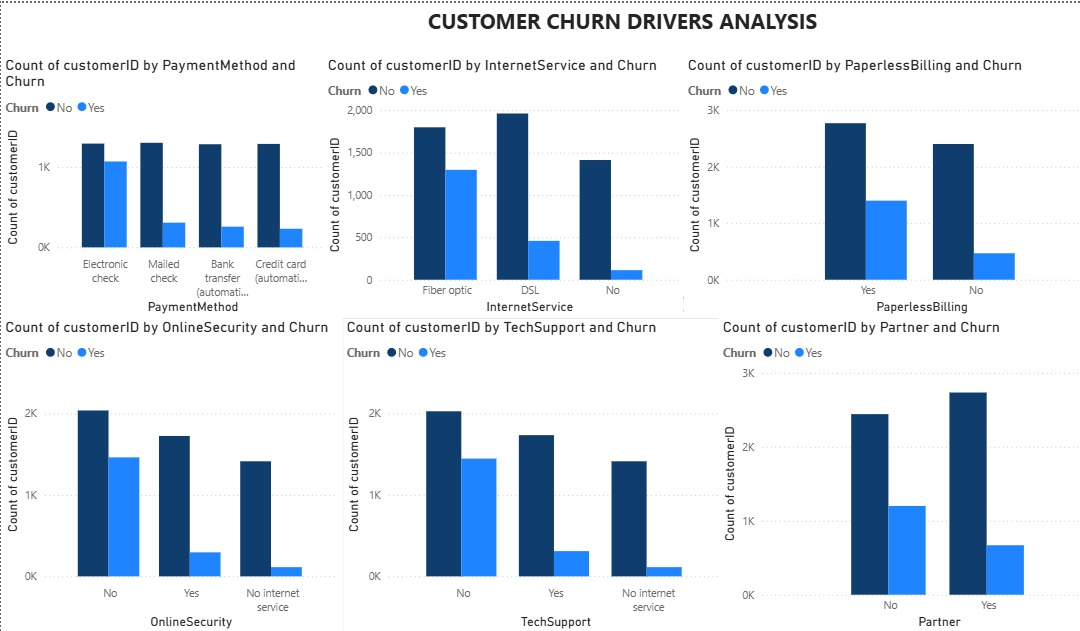

Layout of this report page (visuals, bound fields, positions):
{"tool":"powerbi","page":{"name":"Churn Drivers","canvas":[1280,720],"ordinal":1},"visuals":[{"type":"clusteredColumnChart","fields":{"Category":["churn_cleaned_for_powerbi.PaymentMethod"],"Y":["CountNonNull(churn_cleaned_for_powerbi.customerID)"],"Series":["churn_cleaned_for_powerbi.Churn"]},"box":[0,60,378.6,300],"z":0},{"type":"clusteredColumnChart","fields":{"Category":["churn_cleaned_for_powerbi.TechSupport"],"Y":["CountNonNull(churn_cleaned_for_powerbi.customerID)"],"Series":["churn_cleaned_for_powerbi.Churn"]},"box":[390,360,440,360],"z":1000},{"type":"clusteredColumnChart","fields":{"Category":["churn_cleaned_for_powerbi.InternetService"],"Series":["churn_cleaned_for_powerbi.Churn"],"Y":["CountNonNull(churn_cleaned_for_powerbi.customerID)"]},"box":[368.6,60,411.4,300],"z":2000},{"type":"clusteredColumnChart","fields":{"Category":["churn_cleaned_for_powerbi.OnlineSecurity"],"Y":["CountNonNull(churn_cleaned_for_powerbi.customerID)"],"Series":["churn_cleaned_for_powerbi.Churn"]},"box":[0,360,390,360],"z":3000},{"type":"clusteredColumnChart","fields":{"Y":["CountNonNull(churn_cleaned_for_powerbi.customerID)"],"Series":["churn_cleaned_for_powerbi.Churn"],"Category":["churn_cleaned_for_powerbi.PaperlessBilling"]},"box":[780,60,500,300],"z":4000},{"type":"clusteredColumnChart","fields":{"Y":["CountNonNull(churn_cleaned_for_powerbi.customerID)"],"Series":["churn_cleaned_for_powerbi.Churn"],"Category":["churn_cleaned_for_powerbi.Partner"]},"box":[820,360,460,360],"z":5000},{"type":"textbox","box":[0,108.6,1280,31.4],"z":6000}]}

Visuals, with their boxes on the page's 1280x720 design canvas (x1, y1, x2, y2). These are canvas units, not pixel positions in the 1080x631 screenshot, which may show the page scaled, cropped or inside an application window:
clusteredColumnChart - churn_cleaned_for_powerbi.PaymentMethod x CountNonNull(churn_cleaned_for_powerbi.customerID): 0/60/379/360
clusteredColumnChart - churn_cleaned_for_powerbi.TechSupport x CountNonNull(churn_cleaned_for_powerbi.customerID): 390/360/830/720
clusteredColumnChart - churn_cleaned_for_powerbi.InternetService x churn_cleaned_for_powerbi.Churn: 369/60/780/360
clusteredColumnChart - churn_cleaned_for_powerbi.OnlineSecurity x CountNonNull(churn_cleaned_for_powerbi.customerID): 0/360/390/720
clusteredColumnChart - CountNonNull(churn_cleaned_for_powerbi.customerID) x churn_cleaned_for_powerbi.Churn: 780/60/1280/360
clusteredColumnChart - CountNonNull(churn_cleaned_for_powerbi.customerID) x churn_cleaned_for_powerbi.Churn: 820/360/1280/720
textbox: 0/109/1280/140
